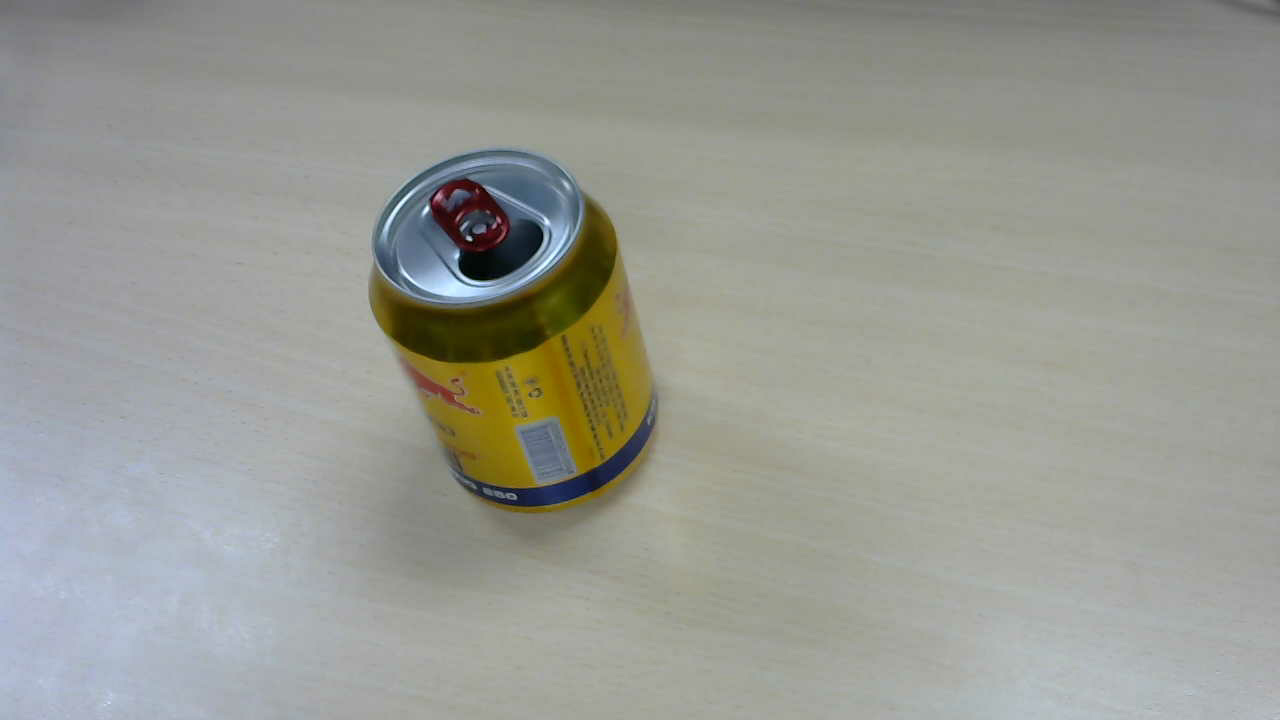Red_Bull: (370, 152, 662, 517)
